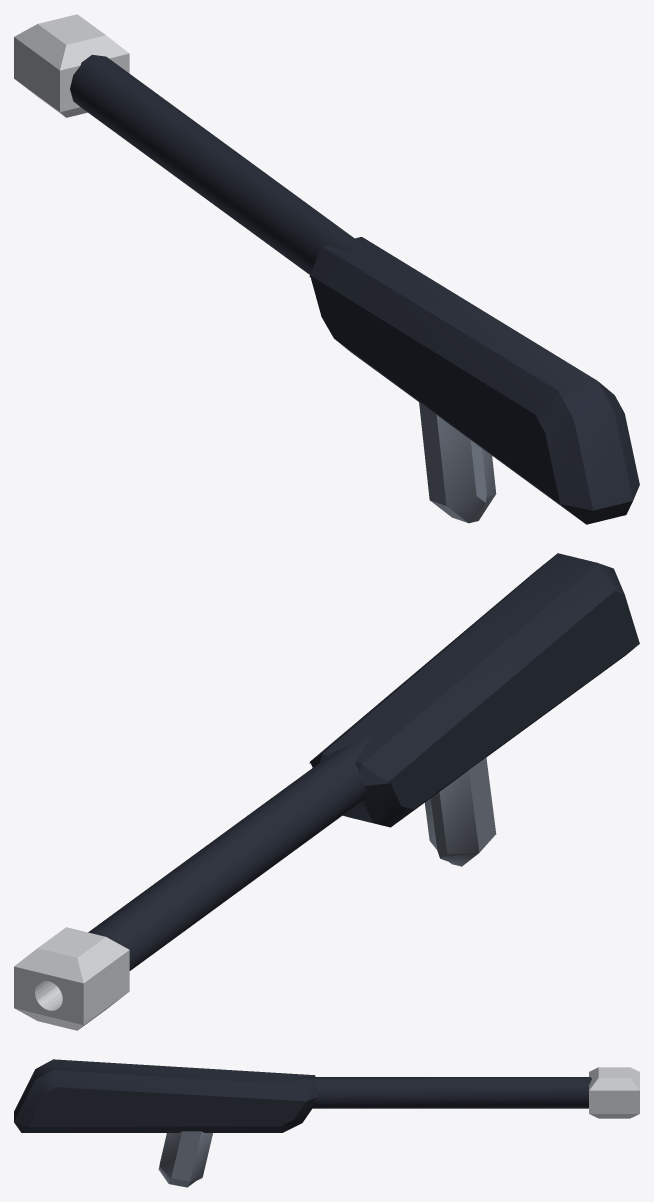
The model's file is w_a_aqua_heavy_gun.glb.
3 views of the same model, one above another, from view 1: azimuth 30°, elevation 25°; view 2: azimuth 150°, elevation 25°; view 3: azimuth 270°, elevation 25° (orthographic). The views are drawn at different scales.
Parts seen in each view (by area): view 1: weapon_body; view 2: weapon_body; view 3: weapon_body.
Boxes of the visible parts, x1,y1,x2,y2 form: weapon_body: (14,14,639,524); weapon_body: (14,553,639,1030); weapon_body: (14,1059,639,1187).
Size of the model in its own units: 0.48 by 1.26 by 5.89.
